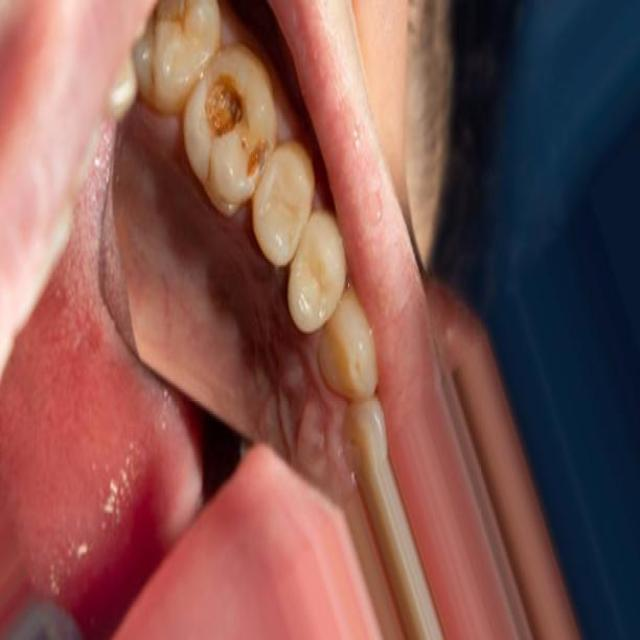caries: (191, 55, 277, 194)
